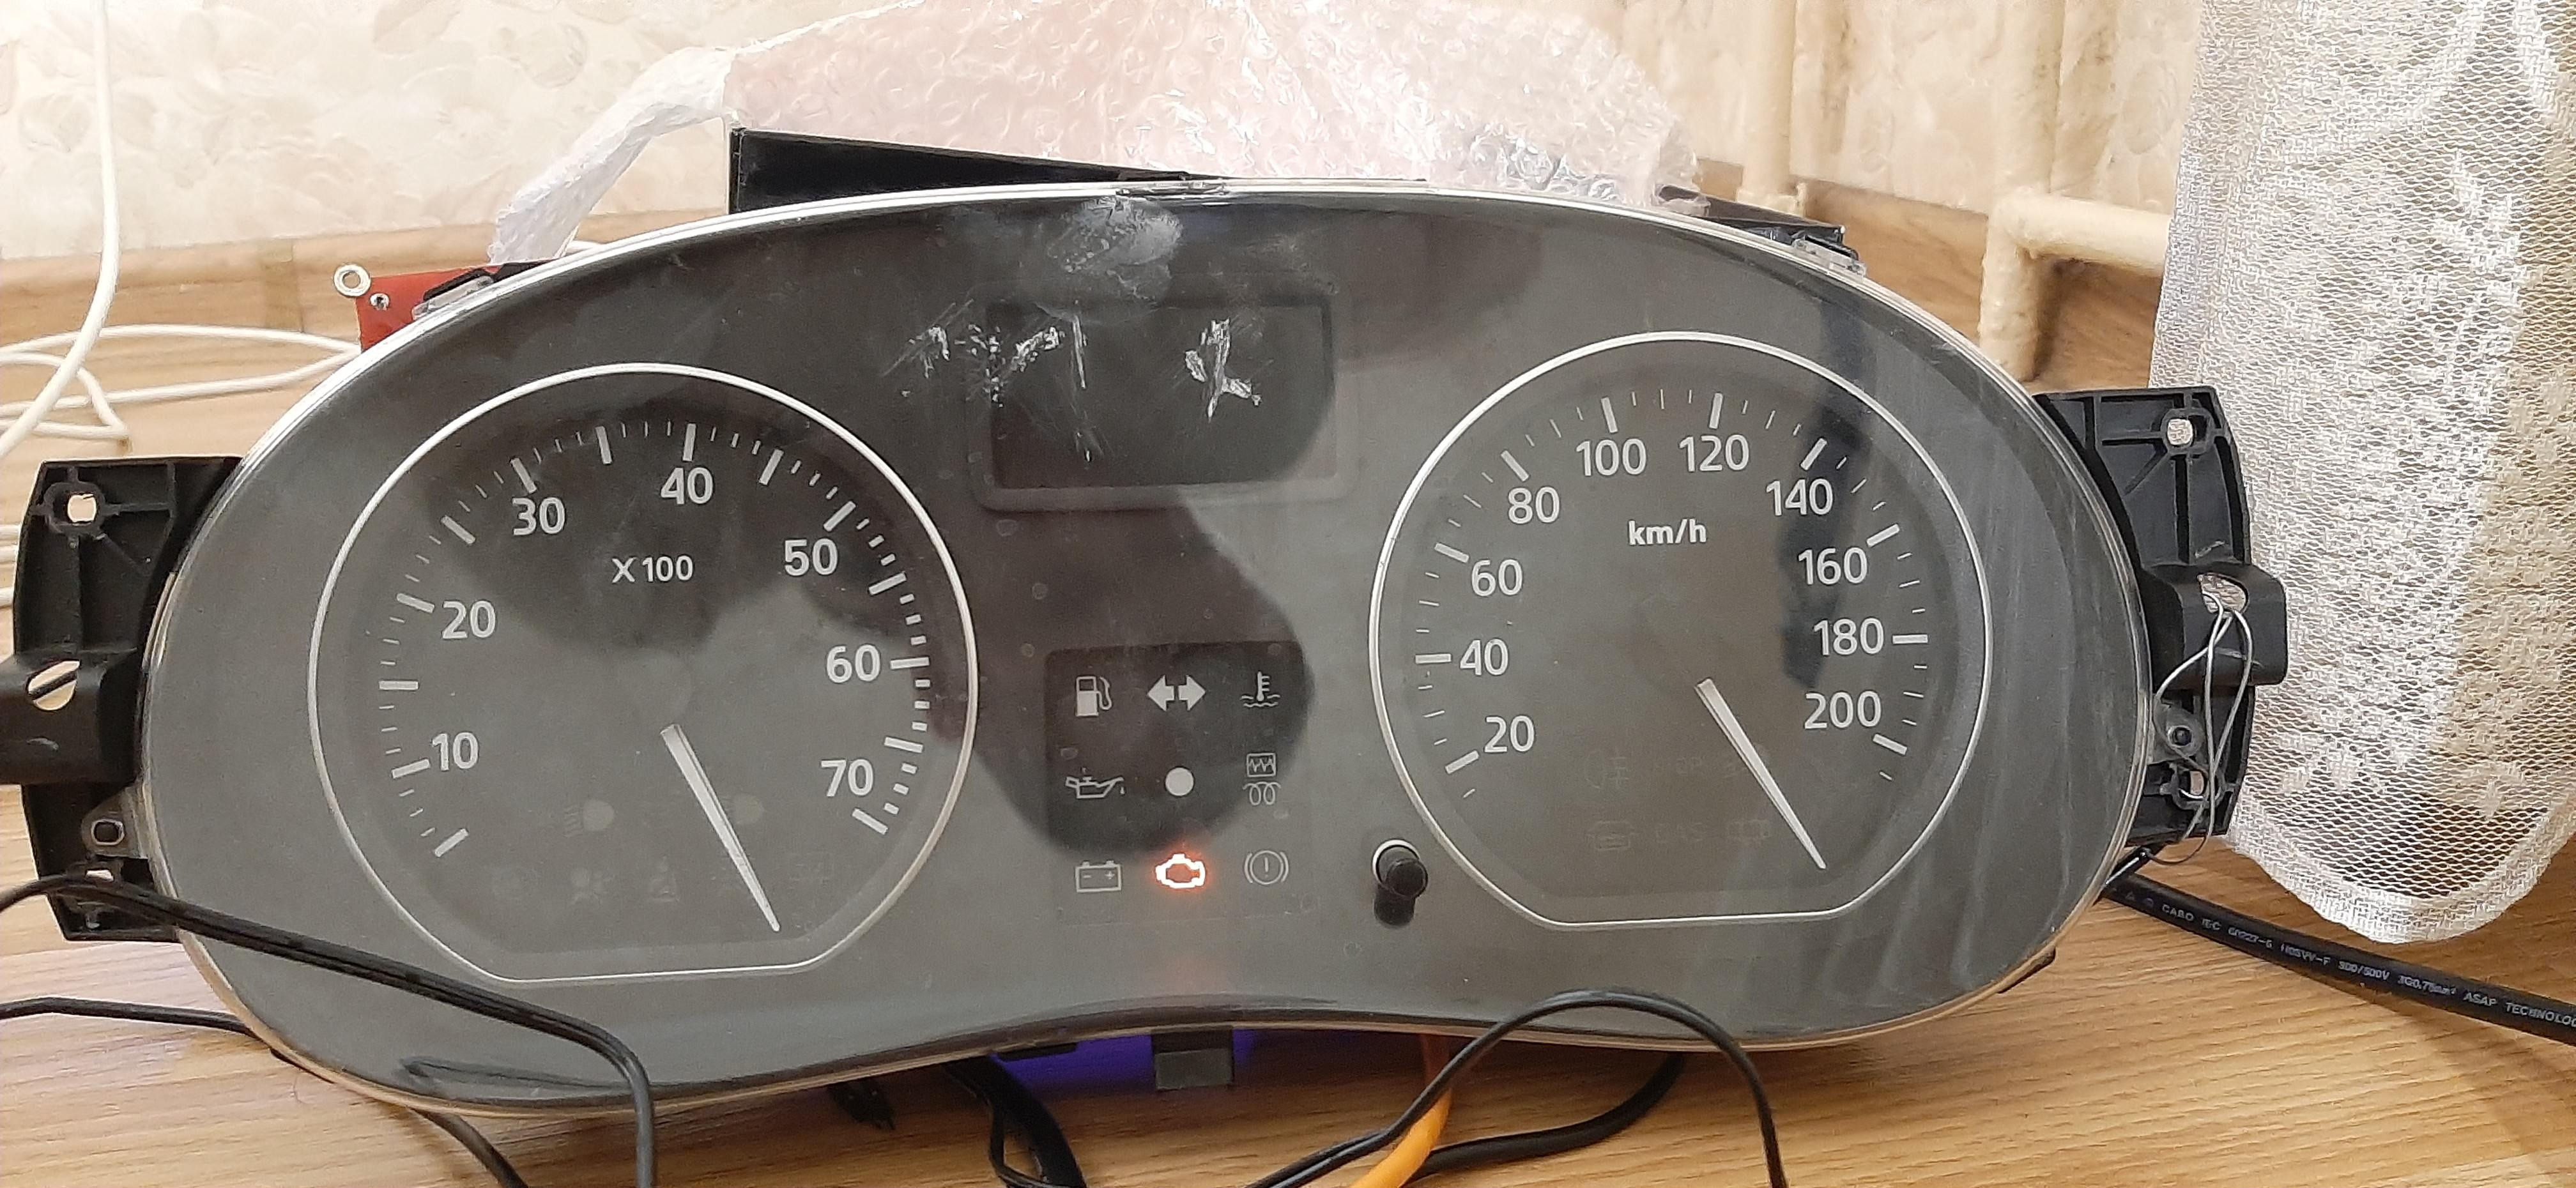engine3: (1153, 851, 1207, 892)
